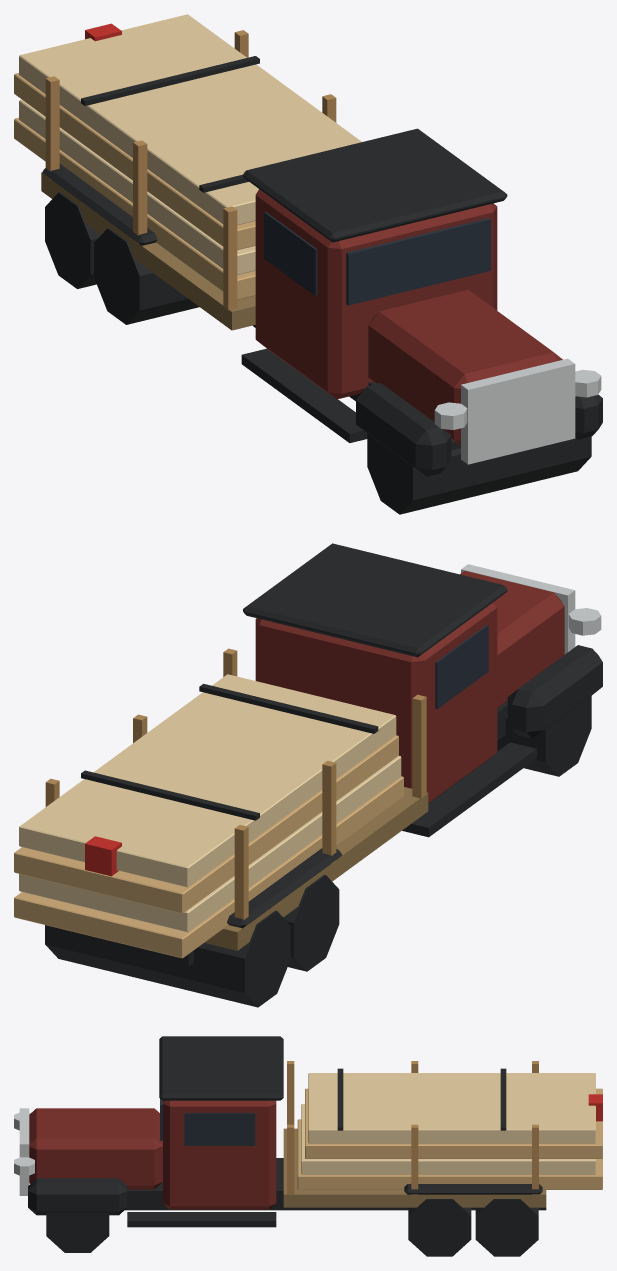
The model's file is con_lumbertruck.glb.
The picture shows the model from 3 angles, top to bottom: view 1: azimuth 30°, elevation 25°; view 2: azimuth 150°, elevation 25°; view 3: azimuth 270°, elevation 25°; orthographic projection. The views are drawn at different scales.
Parts seen in each view (by area): view 1: con_lumbertruck; view 2: con_lumbertruck; view 3: con_lumbertruck.
Boxes of the visible parts, box(x1,y1,x2,y2) form: con_lumbertruck: box(14, 14, 602, 514); con_lumbertruck: box(14, 543, 602, 1007); con_lumbertruck: box(14, 1036, 602, 1256).
Bounding box in the file's own units: 2.3 × 2.45 × 8.3.
